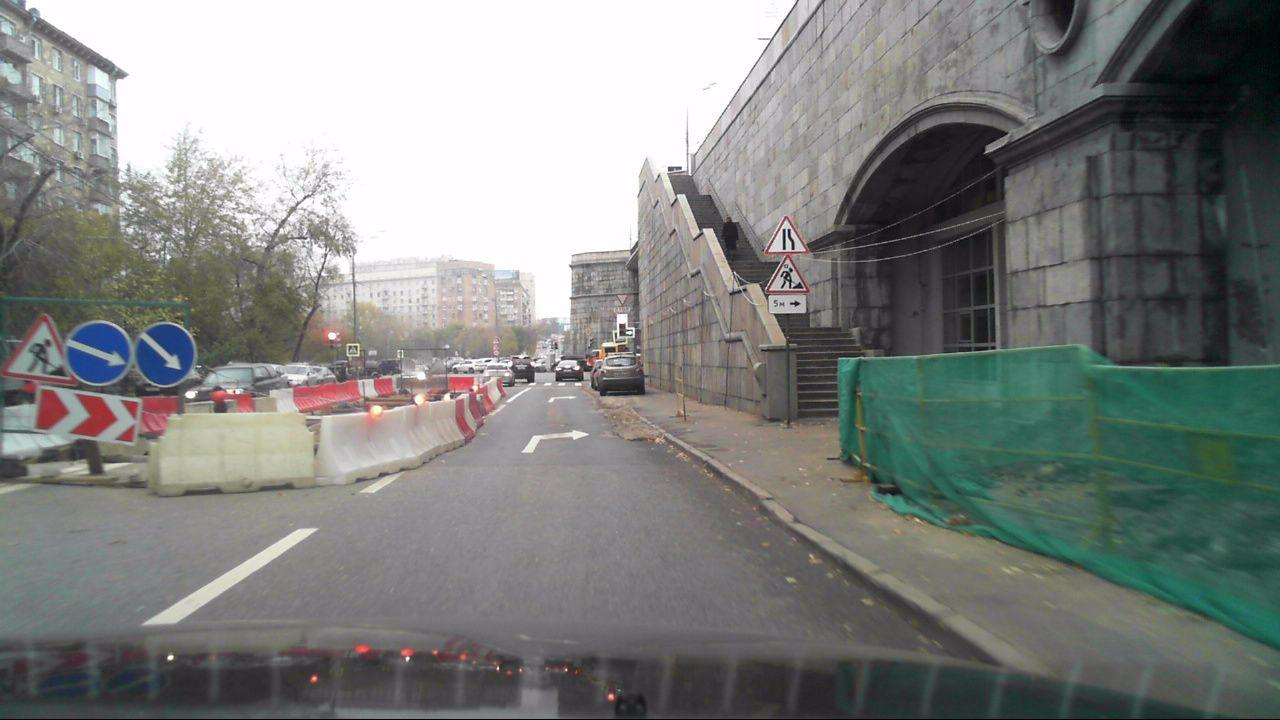1_20_2: (760, 214, 813, 253)
1_25: (4, 314, 74, 385), (764, 254, 813, 293)
1_34_1: (33, 383, 139, 443)
2_4: (617, 293, 632, 308)
4_2_1: (133, 320, 199, 388), (66, 320, 133, 383)
8_1_3: (766, 294, 809, 313)
